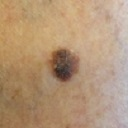Melanoma: (49, 47, 81, 83)
